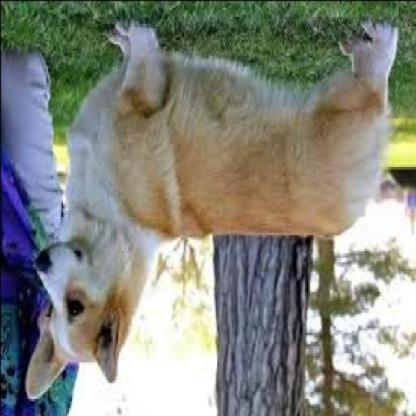dog: (24, 17, 400, 399)
